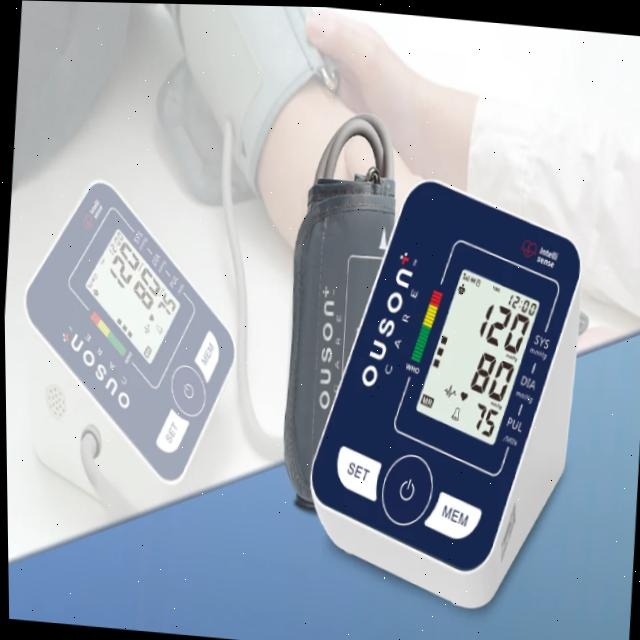dia: (458, 340, 518, 404)
pul: (459, 392, 502, 442)
ssd: (410, 265, 541, 443)
sys: (464, 289, 542, 359)
